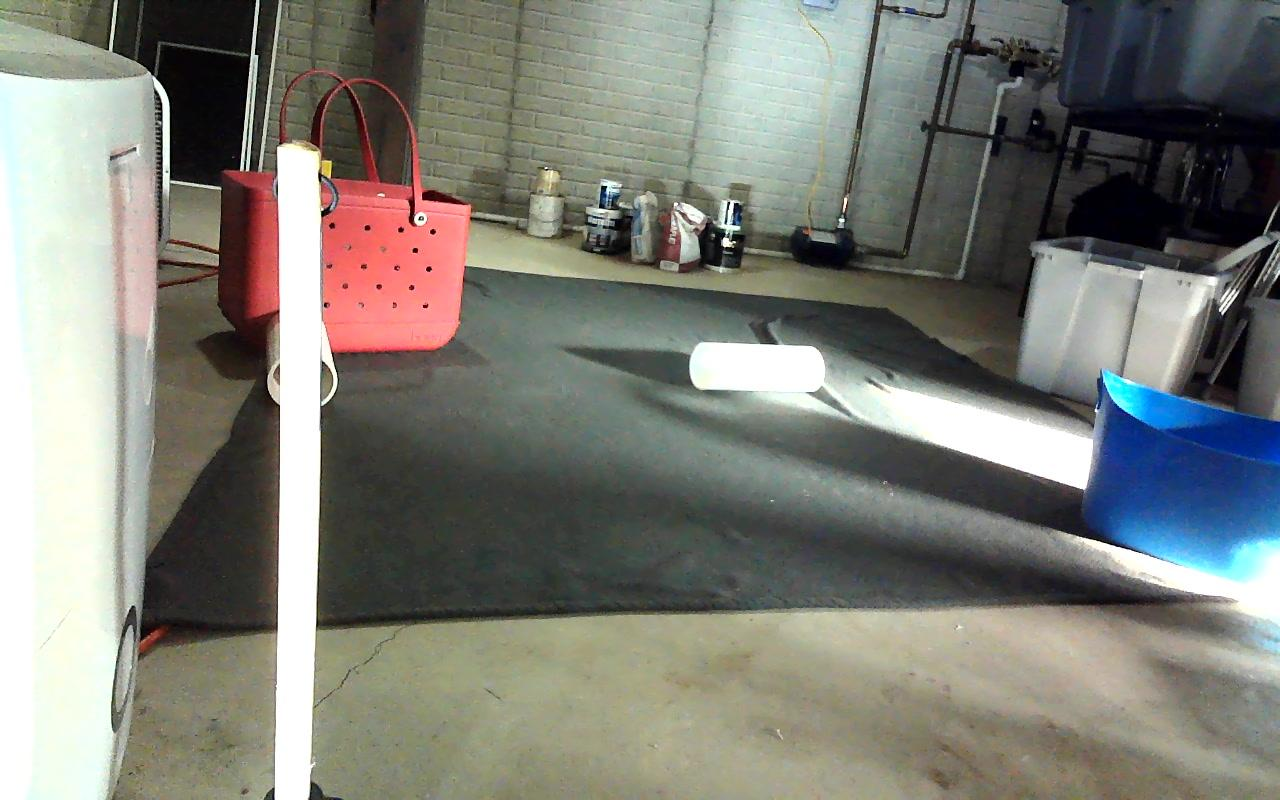coral: (690, 341, 824, 393), (267, 310, 336, 407)
